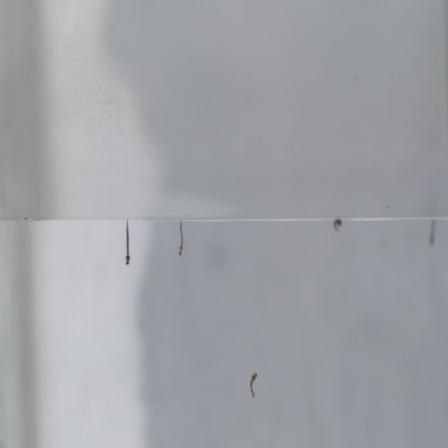Jentik-Nyamuk: (119, 216, 137, 273), (172, 216, 189, 258), (244, 369, 262, 403)
